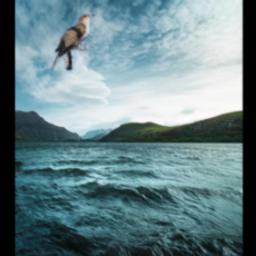Cuckoo: (49, 14, 96, 76)
